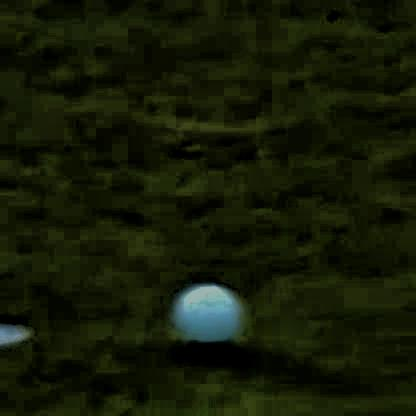golfball: (171, 280, 242, 350)
